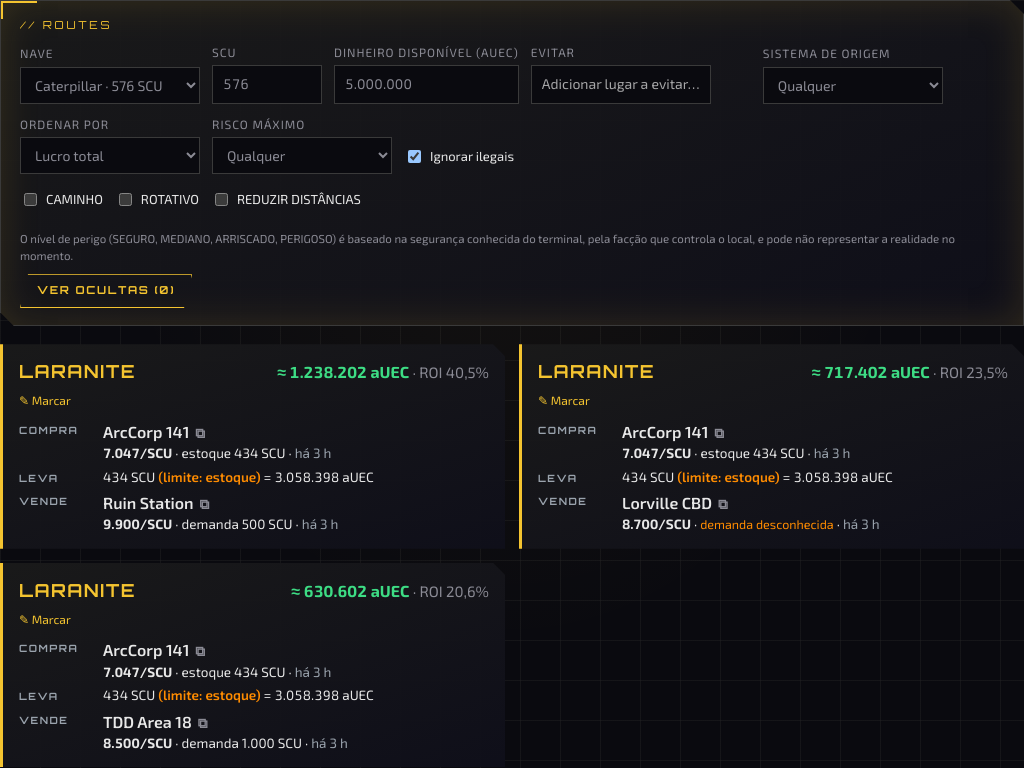
Test: Evitar › item já evitado some da busca e o lugar mostra planeta e sistema
Type "Pyr" into the dropdown labelled "evitar" at (621, 84), box [531, 65, 711, 104]
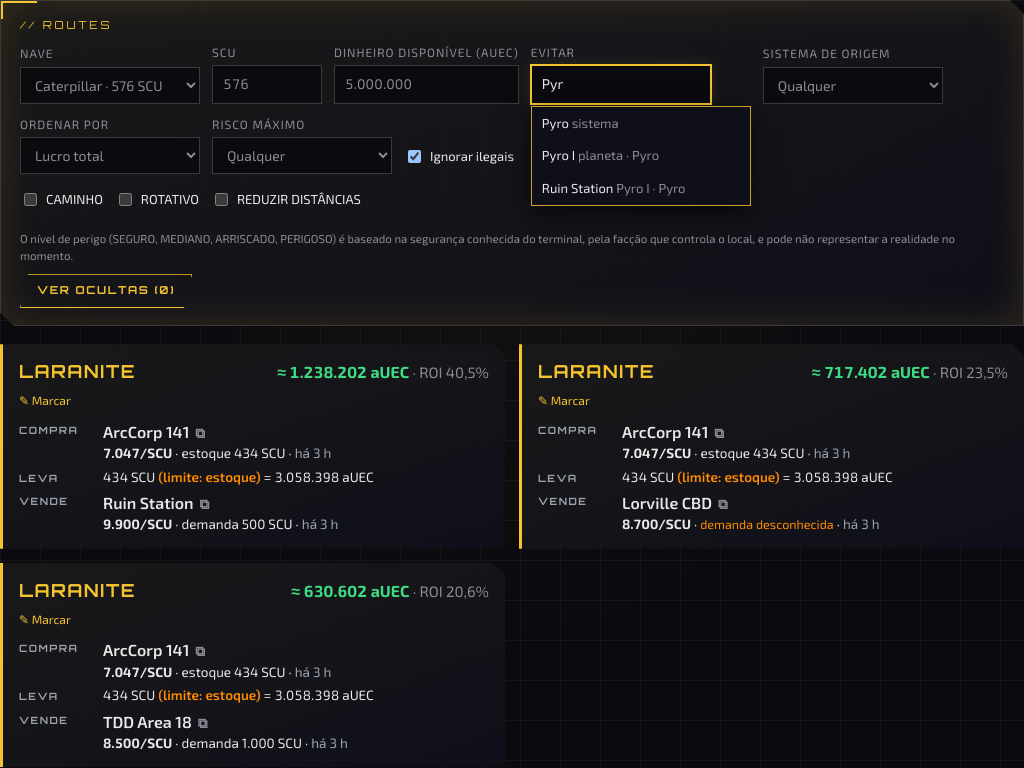
Expected: the option "Pyro I planeta · Pyro" is shown, [542, 148, 659, 164]
Click the option "Pyro sistema" at (580, 123), box [542, 115, 619, 131]
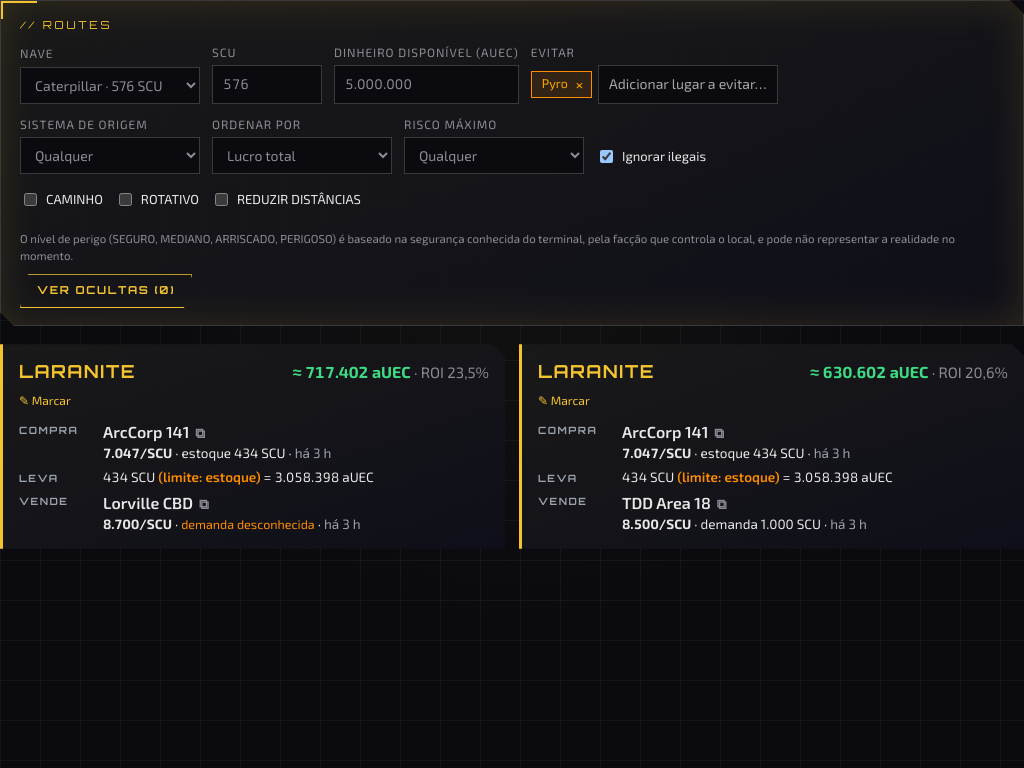
Type "Pyr" into the dropdown labelled "evitar" at (688, 84), box [598, 65, 778, 104]
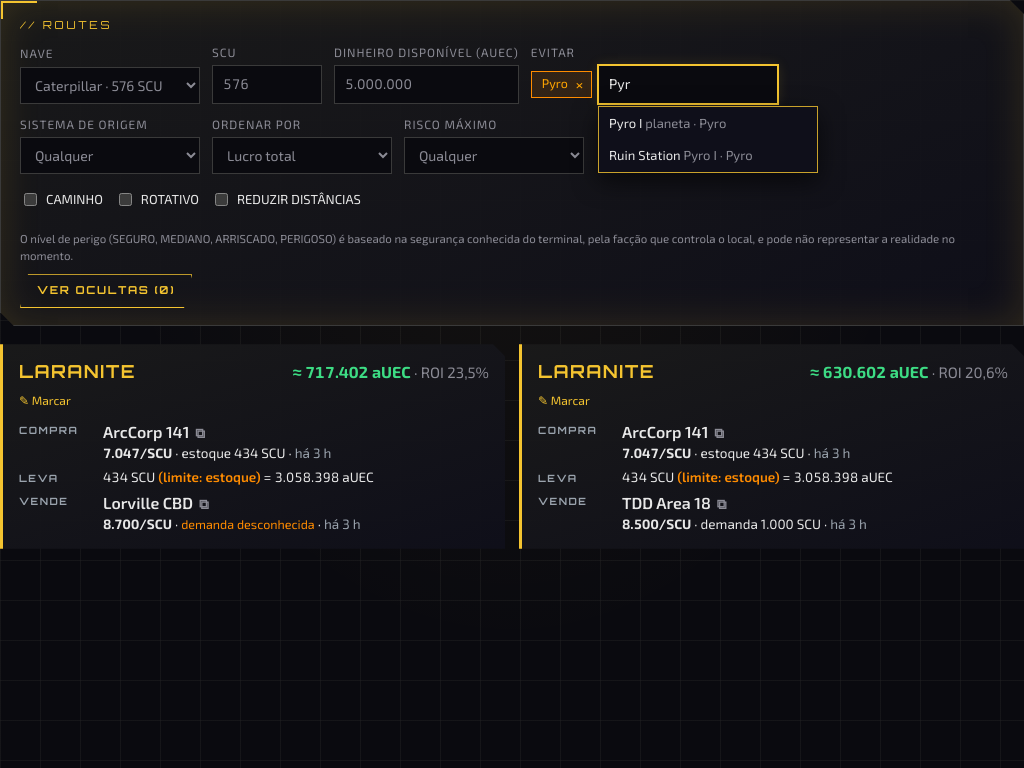
Expected: the option "Ruin Station Pyro I · Pyro" is shown, [609, 148, 753, 164]
